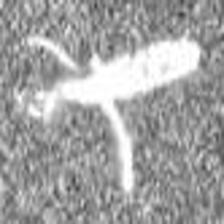plane: (26, 34, 199, 190)
